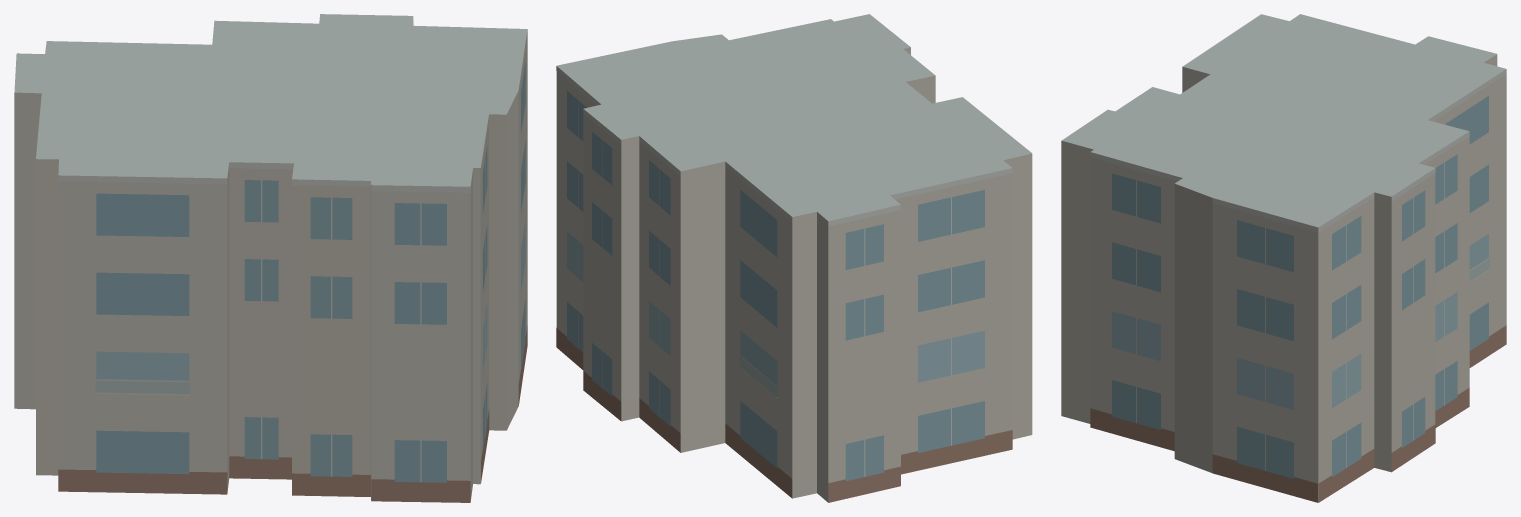
File: survey-upis-32782994.glb
3 renders of one model, left to right at view 1: azimuth 30°, elevation 25°; view 2: azimuth 150°, elevation 25°; view 3: azimuth 270°, elevation 25°, orthographic. The views are drawn at different scales.
Parts seen in each view (by area): view 1: survey-upis-32782994.tmp; view 2: survey-upis-32782994.tmp; view 3: survey-upis-32782994.tmp.
Boxes of the visible parts, <box> form: survey-upis-32782994.tmp: <box>14,14,527,502</box>; survey-upis-32782994.tmp: <box>556,14,1032,502</box>; survey-upis-32782994.tmp: <box>1061,14,1506,502</box>.
Size of the model in its own units: 21.86 by 13.15 by 19.26.
